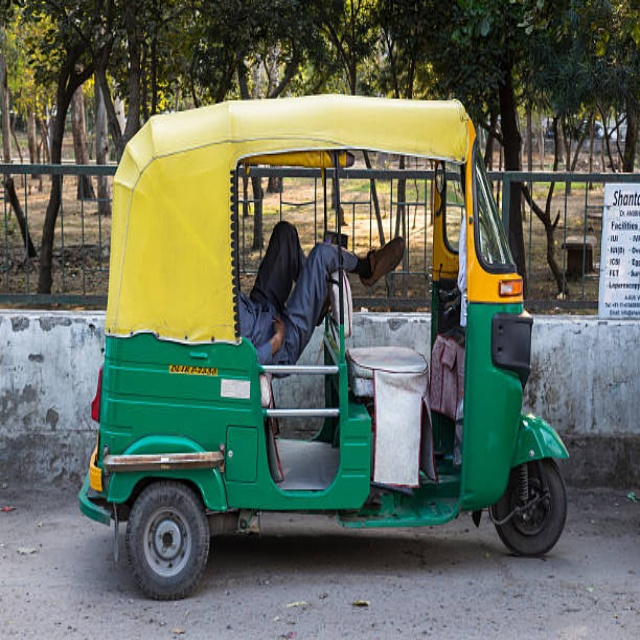Motorcycle: (78, 97, 570, 601)
